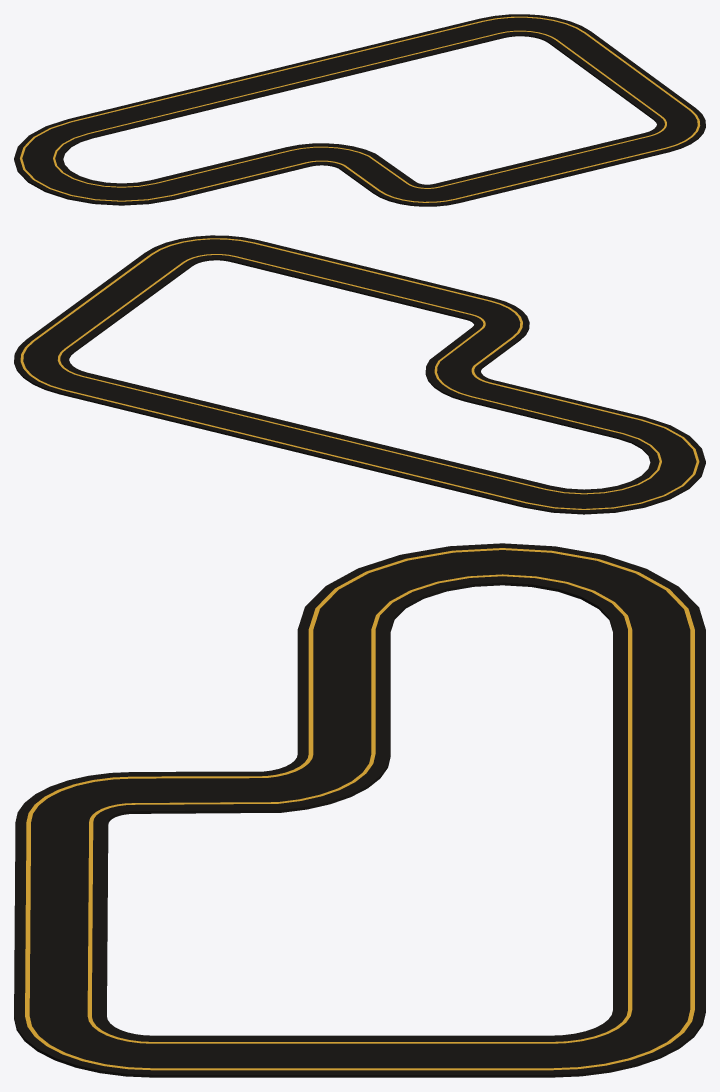
The model's file is Road.fbx.
The picture shows the model from 3 angles, top to bottom: view 1: azimuth 30°, elevation 25°; view 2: azimuth 150°, elevation 25°; view 3: azimuth 270°, elevation 25°; orthographic projection. The views are drawn at different scales.
Parts seen in each view (by area): view 1: Cube, Cube.001; view 2: Cube, Cube.001; view 3: Cube, Cube.001.
Boxes of the visible parts, x1,y1,x2,y2 form: Cube: (14,14,705,206); Cube.001: (29,21,690,198); Cube: (14,235,705,514); Cube.001: (31,243,687,504); Cube: (14,543,705,1077); Cube.001: (44,556,676,1062).
Bounding box in the file's own units: 218 × 0.5267 × 120.
